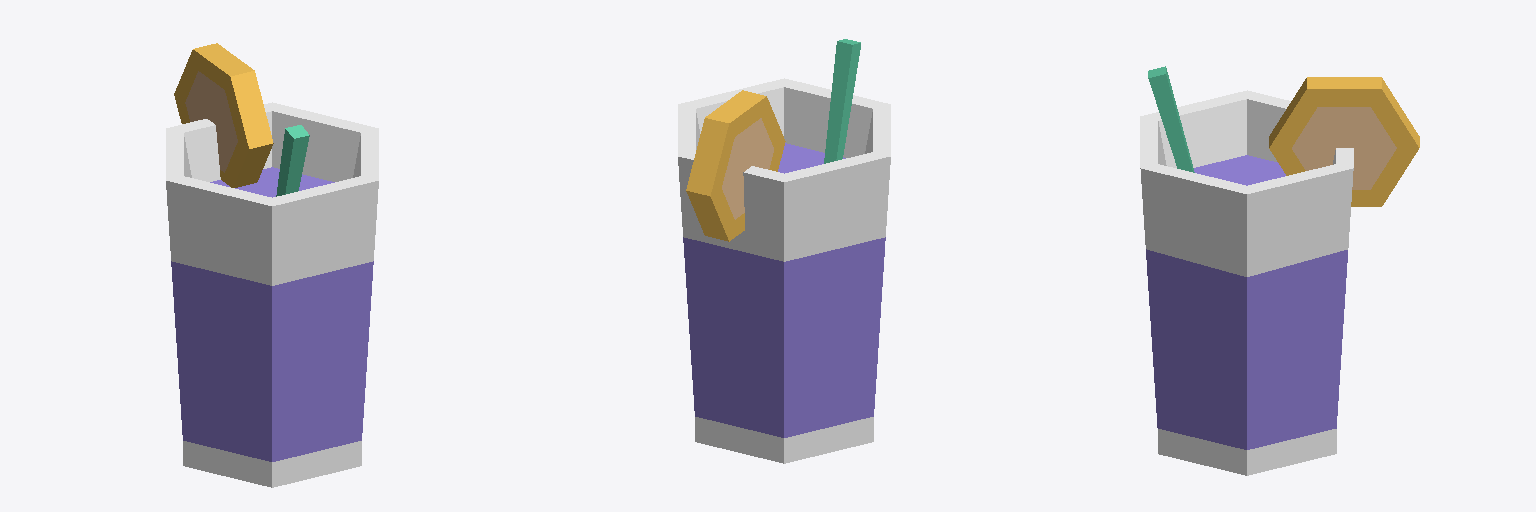
File: sodaGlass.obj
3 views of the same model, side by side, from view 1: azimuth 30°, elevation 25°; view 2: azimuth 150°, elevation 25°; view 3: azimuth 270°, elevation 25° (orthographic).
Visible parts, largest first — view 1: sodaGlass, lemon, straw; view 2: sodaGlass, lemon, straw; view 3: sodaGlass, lemon, straw.
Boxes of the visible parts, <box> form: sodaGlass: <box>166,102,378,487</box>; lemon: <box>174,43,273,187</box>; straw: <box>276,125,309,196</box>; sodaGlass: <box>678,78,890,463</box>; lemon: <box>686,90,785,241</box>; straw: <box>824,39,860,163</box>; sodaGlass: <box>1140,90,1353,475</box>; lemon: <box>1269,77,1419,206</box>; straw: <box>1148,66,1194,172</box>.
Size of the model in its own units: 0.2618 by 0.4134 by 0.2967.